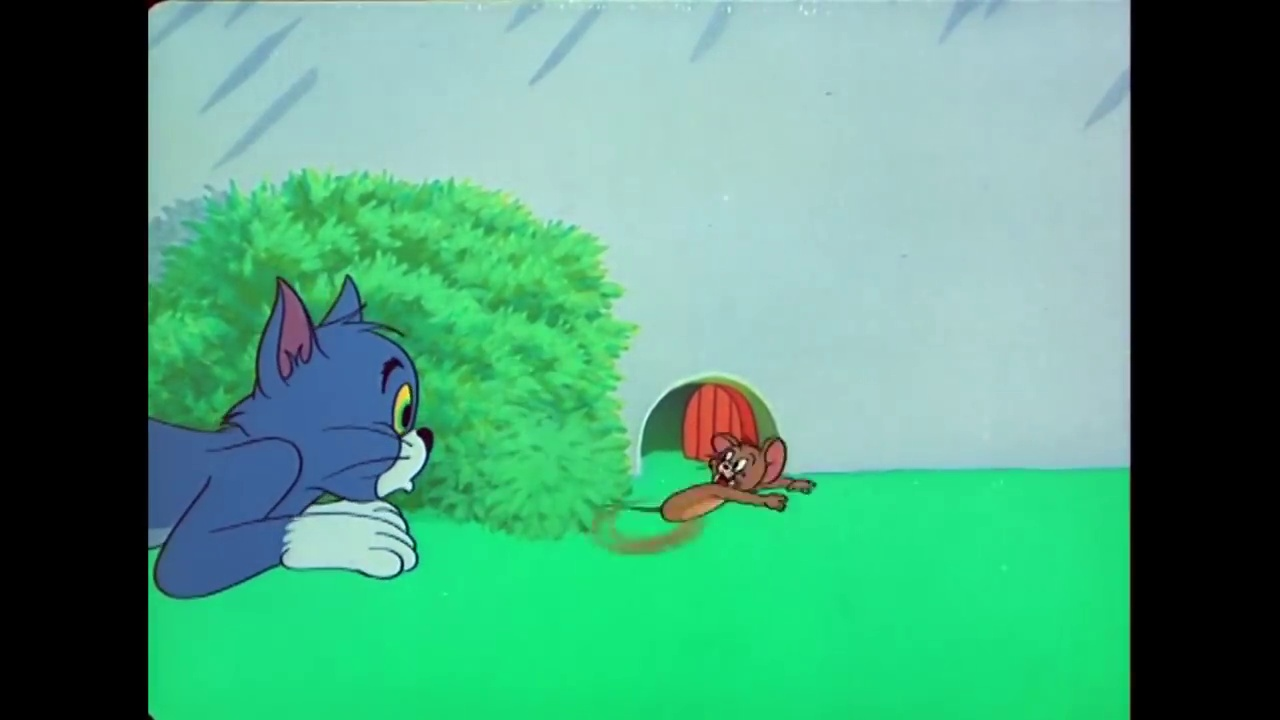tom: (220, 269, 438, 518)
